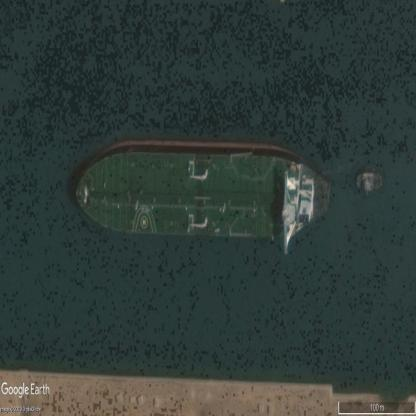ship: (76, 136, 333, 246), (354, 168, 383, 195)
